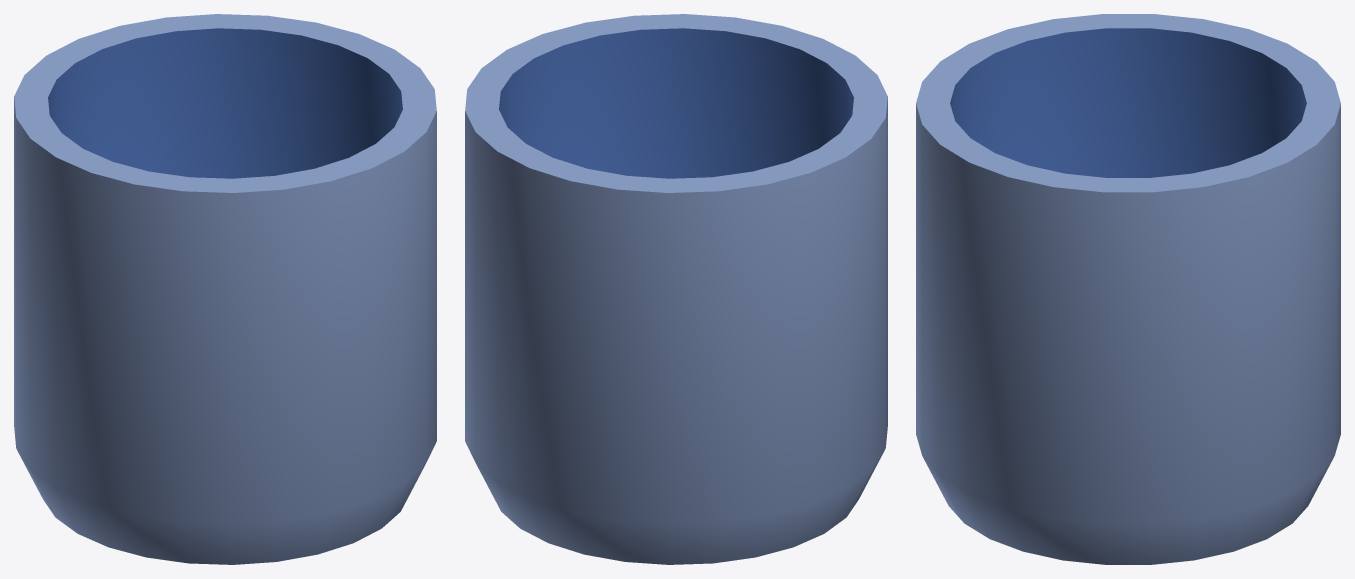
Rendered from Cup C.fbx.
3 renders of one model, left to right at view 1: azimuth 30°, elevation 25°; view 2: azimuth 150°, elevation 25°; view 3: azimuth 270°, elevation 25°, orthographic.
Visible parts, largest first — view 1: Cup; view 2: Cup; view 3: Cup.
Part boxes in pixels (x1=…): Cup: x1=14, y1=14, x2=436, y2=564; Cup: x1=465, y1=14, x2=887, y2=564; Cup: x1=916, y1=14, x2=1340, y2=564.
Size of the model in its own units: 0.1828 by 0.1837 by 0.1842.
